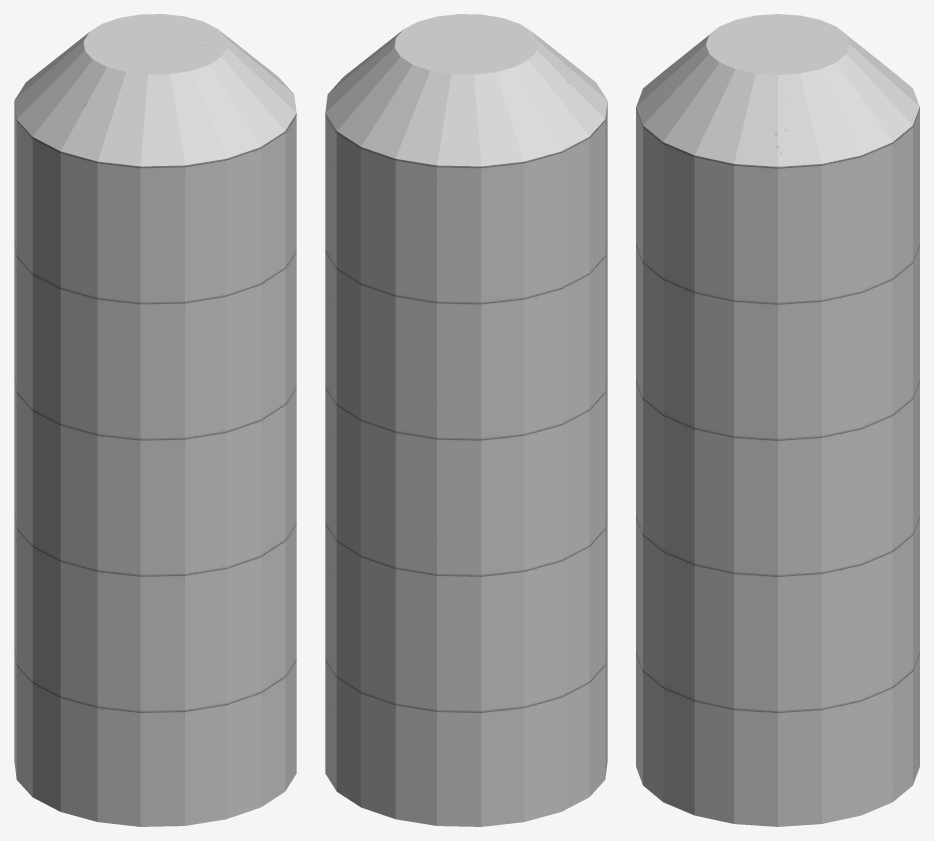
The model's file is Water Tank.fbx.
3 views of the same model, side by side, from view 1: azimuth 30°, elevation 25°; view 2: azimuth 150°, elevation 25°; view 3: azimuth 270°, elevation 25° (orthographic).
Parts seen in each view (by area): view 1: Water Tank; view 2: Water Tank; view 3: Water Tank.
Part boxes in pixels (x1,y1,x2,y2): Water Tank: [14, 14, 296, 826]; Water Tank: [325, 14, 607, 826]; Water Tank: [636, 14, 919, 826].
Bounding box in the file's own units: 898 × 2525 × 898.
